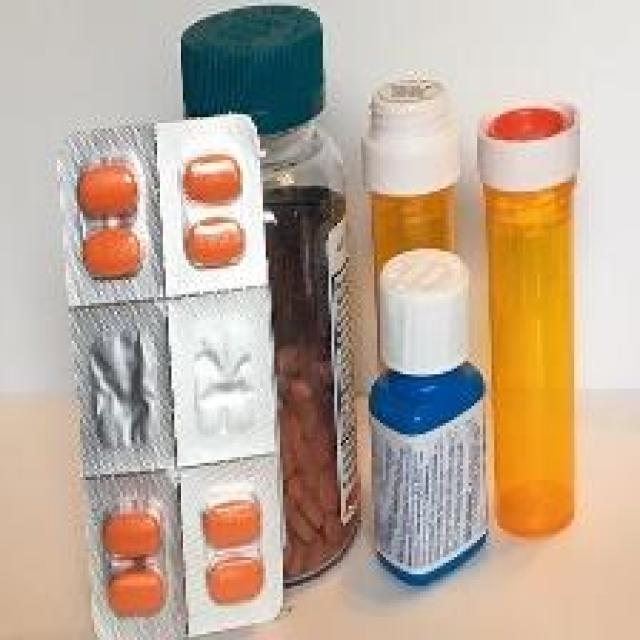Medicine: (48, 0, 583, 629)
